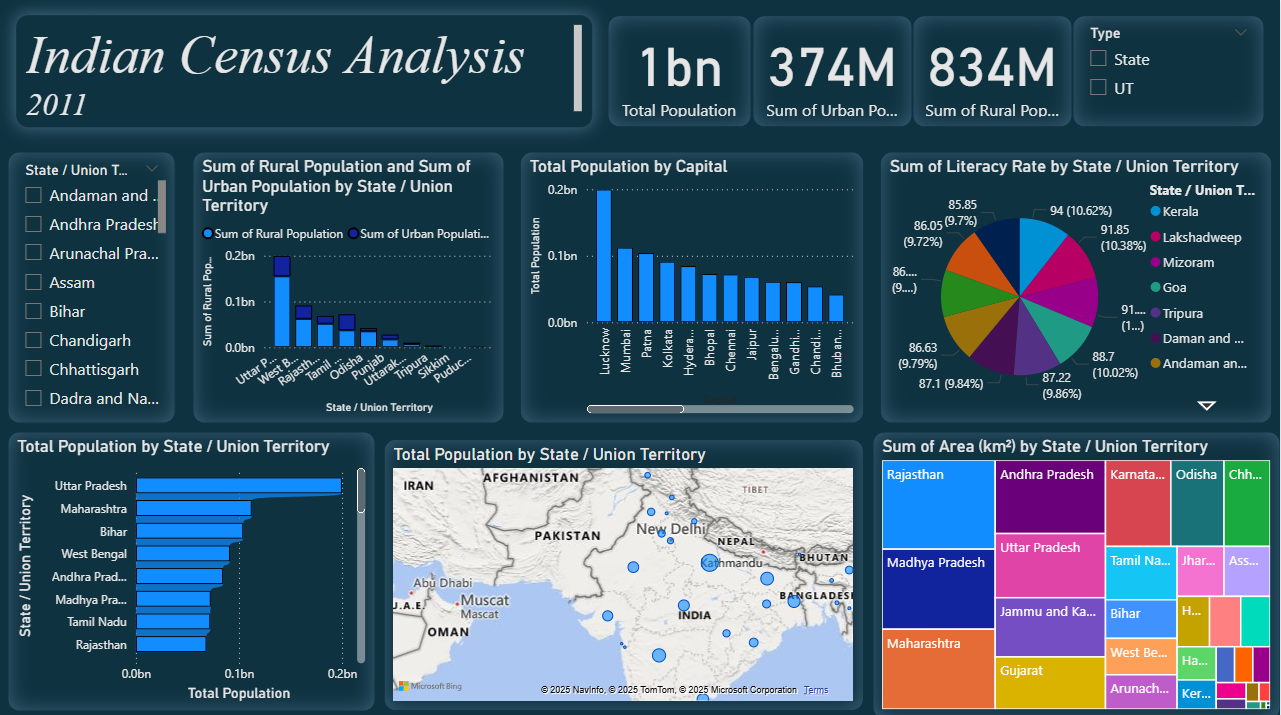

This screenshot's page, from the dashboard's own definition file:
{"tool":"powerbi","page":{"name":"Page 2","canvas":[1280,720],"ordinal":1},"visuals":[{"type":"barChart","fields":{"Y":["india_population_2011_cleaned.Total Population"],"Category":["india_population_2011_cleaned.State / Union Territory"]},"box":[8,432,368,280],"z":0},{"type":"textbox","box":[0,16,608,112],"z":1000},{"type":"map","fields":{"Category":["india_population_2011_cleaned.State / Union Territory"],"Size":["india_population_2011_cleaned.Total Population"]},"box":[384,440,480,272],"z":2000},{"type":"columnChart","fields":{"Category":["india_population_2011_cleaned.State / Union Territory"],"Y":["Sum(india_population_2011_cleaned.Rural Population)","Sum(india_population_2011_cleaned.Urban Population)"]},"box":[192,152,312,272],"z":3000},{"type":"pieChart","fields":{"Category":["india_population_2011_cleaned.State / Union Territory"],"Y":["Sum(india_population_2011_cleaned.Literacy Rate)"]},"box":[880,152,392,272],"z":4000},{"type":"treemap","fields":{"Group":["india_population_2011_cleaned.State / Union Territory"],"Values":["Sum(india_population_2011_cleaned.Area (km²))"]},"box":[872,432,408,288],"z":5000},{"type":"lineStackedColumnComboChart","fields":{"Category":["india_population_2011_cleaned.Capital"],"Y":["india_population_2011_cleaned.Total Population"]},"box":[520,152,344,272],"z":6000},{"type":"slicer","fields":{"Values":["india_population_2011_cleaned.State / Union Territory"]},"box":[8,152,168,272],"z":7000},{"type":"slicer","fields":{"Values":["india_population_2011_cleaned.Type"]},"box":[1072,16,192,112],"z":8000},{"type":"card","fields":{"Values":["Sum(india_population_2011_cleaned.Urban Population)"]},"box":[752,16,160,112],"z":9000},{"type":"card","fields":{"Values":["india_population_2011_cleaned.Total Population"]},"box":[608,16,144,112],"z":10000},{"type":"card","fields":{"Values":["Sum(india_population_2011_cleaned.Rural Population)"]},"box":[912,16,160,112],"z":11000},{"type":"textbox","box":[16,16,576,112],"z":12000}]}

Visuals, with their boxes in screenshot pixels (x1, y1, x2, y2), scaled from the page's 1280x720 canvas onto the 1281x715 screenshot:
barChart - india_population_2011_cleaned.Total Population x india_population_2011_cleaned.State / Union Territory: x1=8, y1=429, x2=376, y2=707
textbox: x1=0, y1=16, x2=608, y2=127
map - india_population_2011_cleaned.State / Union Territory x india_population_2011_cleaned.Total Population: x1=384, y1=437, x2=865, y2=707
columnChart - india_population_2011_cleaned.State / Union Territory x Sum(india_population_2011_cleaned.Rural Population): x1=192, y1=151, x2=504, y2=421
pieChart - india_population_2011_cleaned.State / Union Territory x Sum(india_population_2011_cleaned.Literacy Rate): x1=881, y1=151, x2=1273, y2=421
treemap - india_population_2011_cleaned.State / Union Territory x Sum(india_population_2011_cleaned.Area (km²)): x1=873, y1=429, x2=1280, y2=714
lineStackedColumnComboChart - india_population_2011_cleaned.Capital x india_population_2011_cleaned.Total Population: x1=520, y1=151, x2=865, y2=421
slicer - india_population_2011_cleaned.State / Union Territory: x1=8, y1=151, x2=176, y2=421
slicer - india_population_2011_cleaned.Type: x1=1073, y1=16, x2=1265, y2=127
card - Sum(india_population_2011_cleaned.Urban Population): x1=753, y1=16, x2=913, y2=127
card - india_population_2011_cleaned.Total Population: x1=608, y1=16, x2=753, y2=127
card - Sum(india_population_2011_cleaned.Rural Population): x1=913, y1=16, x2=1073, y2=127
textbox: x1=16, y1=16, x2=592, y2=127
